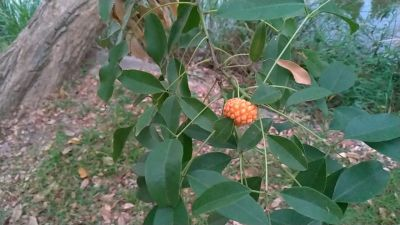eggs: (221, 94, 260, 128)
